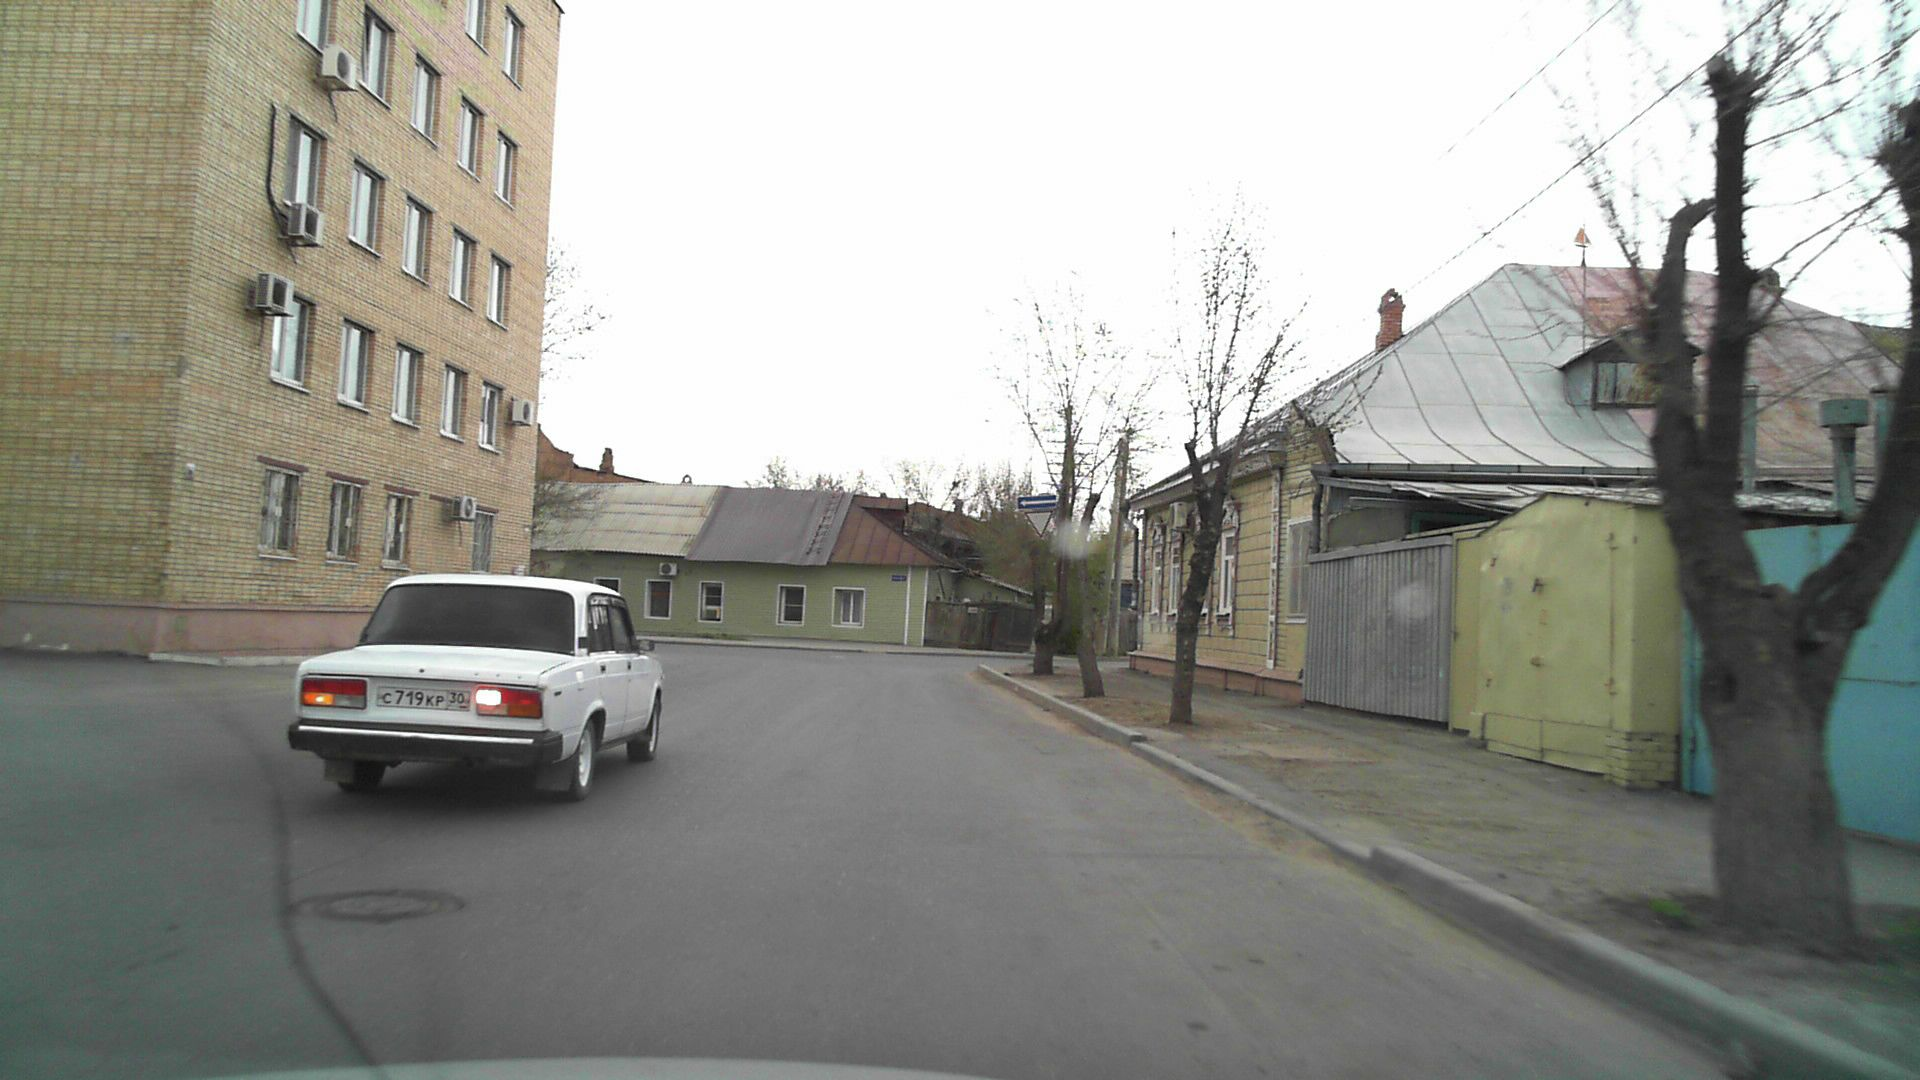One-Way Traffic: (1017, 495, 1058, 510)
